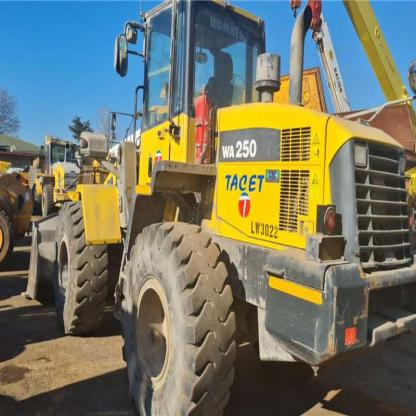bull_dozer/loader/grader: (15, 0, 416, 415)
